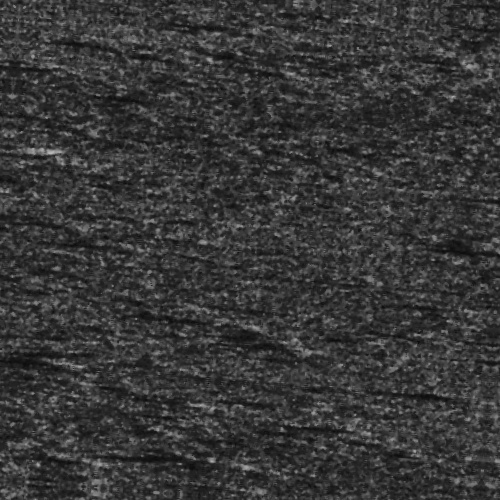object: (195, 457, 288, 470), (0, 158, 57, 173), (75, 468, 148, 477), (43, 374, 84, 379), (0, 378, 29, 383)
shadow: (98, 457, 241, 470), (35, 468, 111, 477), (437, 228, 500, 237), (0, 158, 25, 173), (0, 374, 63, 379), (462, 409, 500, 416)
